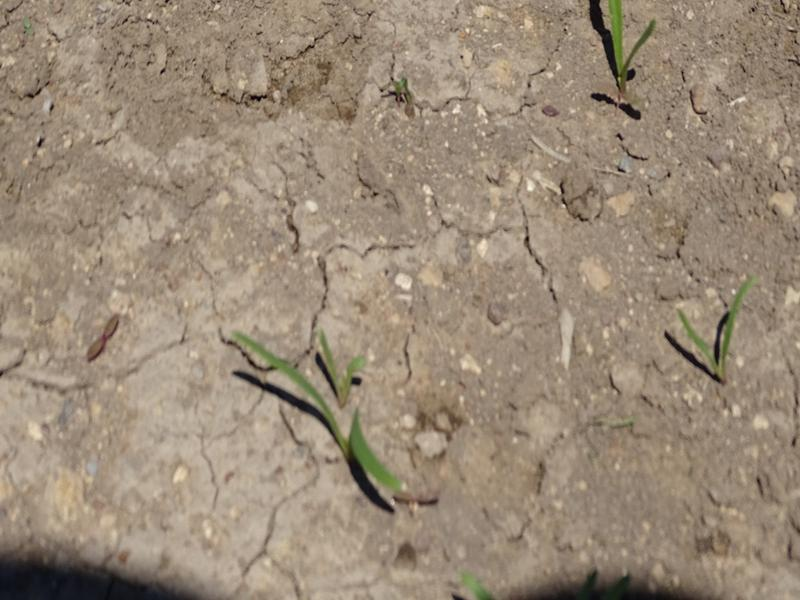Espinaca: (242, 332, 409, 501), (676, 276, 754, 381), (600, 1, 659, 96)
